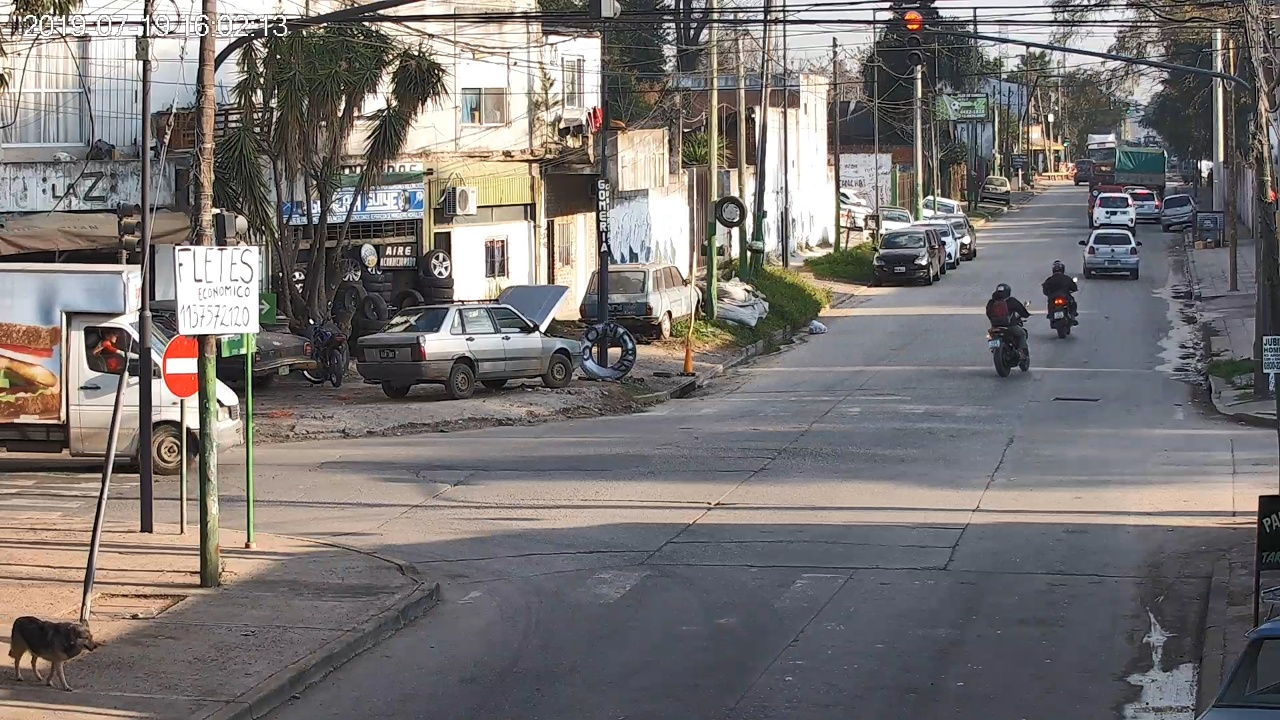car: (1079, 229, 1144, 281)
motorcycle: (985, 299, 1033, 377), (1041, 276, 1079, 338)
traffic light: (904, 11, 924, 66)
